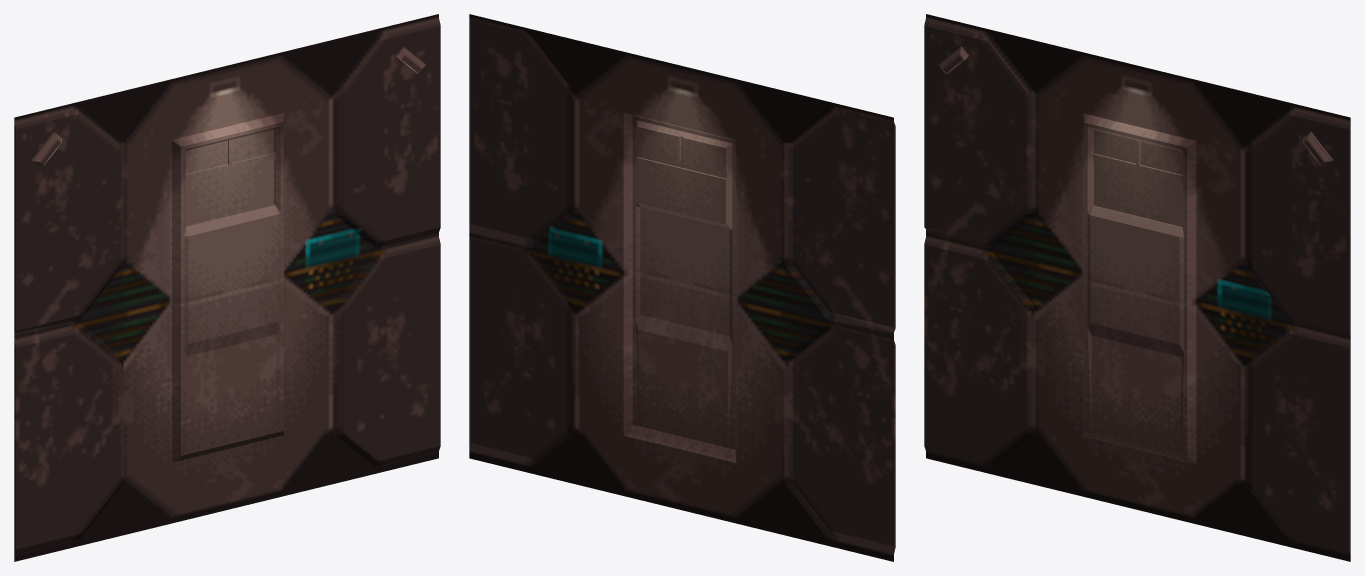
File: eng1_8.fbx
3 views of the same model, side by side, from view 1: azimuth 30°, elevation 25°; view 2: azimuth 150°, elevation 25°; view 3: azimuth 330°, elevation 25° (orthographic).
Parts seen in each view (by area): view 1: eng1_8, eng1_5_light; view 2: eng1_8; view 3: eng1_8, eng1_5_light.
Boxes of the visible parts, x1,y1,x2,y2 form: eng1_8: [14, 14, 440, 561]; eng1_5_light: [31, 46, 425, 166]; eng1_8: [469, 14, 895, 561]; eng1_8: [924, 14, 1350, 561]; eng1_5_light: [938, 46, 1333, 166].
Bounding box in the file's own units: 256 × 256 × 5.4.
